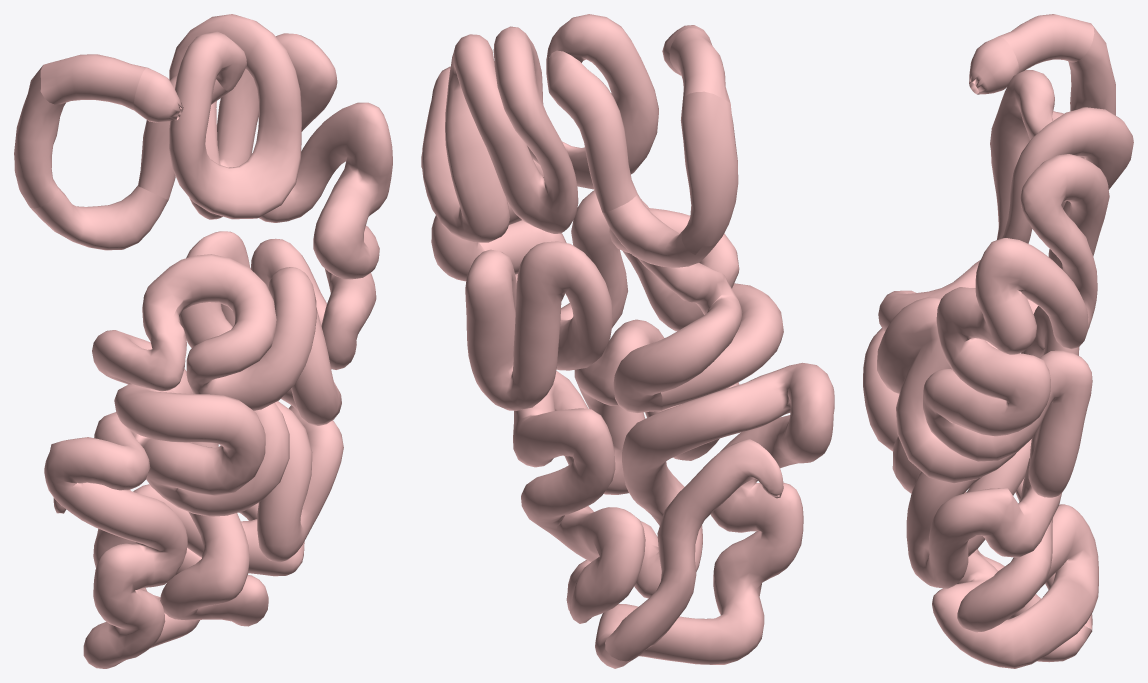
File: gut-small.glb
3 renders of one model, left to right at view 1: azimuth 30°, elevation 25°; view 2: azimuth 150°, elevation 25°; view 3: azimuth 270°, elevation 25°, orthographic. The views are drawn at different scales.
Visible parts, largest first — view 1: VH_M_jejunum, VH_M_ileum, VH_M_duodenum_horizonal, VH_M_duodenum_descending, VH_M_duodenum_superior, VH_M_duodenum_ascending, VH_M_duodenal_ampulla, VH_M_ileum_terminal; view 2: VH_M_jejunum, VH_M_ileum, VH_M_ileum_terminal, VH_M_duodenum_descending, VH_M_duodenum_ascending, VH_M_duodenum_horizonal, VH_M_duodenum_superior; view 3: VH_M_jejunum, VH_M_ileum, VH_M_duodenum_superior, VH_M_duodenum_descending, VH_M_duodenal_ampulla.
Boxes of the visible parts, x1,y1,x2,y2 form: VH_M_jejunum: (92,14,392,425); VH_M_ileum: (44,384,343,668); VH_M_duodenum_horizonal: (30,185,168,250); VH_M_duodenum_descending: (14,65,65,208); VH_M_duodenum_superior: (40,54,147,110); VH_M_duodenum_ascending: (138,74,231,199); VH_M_duodenal_ampulla: (133,68,183,122); VH_M_ileum_terminal: (53,490,146,590); VH_M_jejunum: (421,14,742,412); VH_M_ileum: (513,283,834,668); VH_M_ileum_terminal: (605,439,783,661); VH_M_duodenum_descending: (680,91,738,254); VH_M_duodenum_ascending: (546,50,637,212); VH_M_duodenum_horizonal: (602,193,716,267); VH_M_duodenum_superior: (669,28,730,102); VH_M_jejunum: (877,70,1133,497); VH_M_ileum: (863,328,1098,668); VH_M_duodenum_superior: (998,14,1094,72); VH_M_duodenum_descending: (1068,25,1115,159); VH_M_duodenal_ampulla: (969,36,1019,94).
Size of the model in its own units: 0.1544 by 0.2439 by 0.0988.
